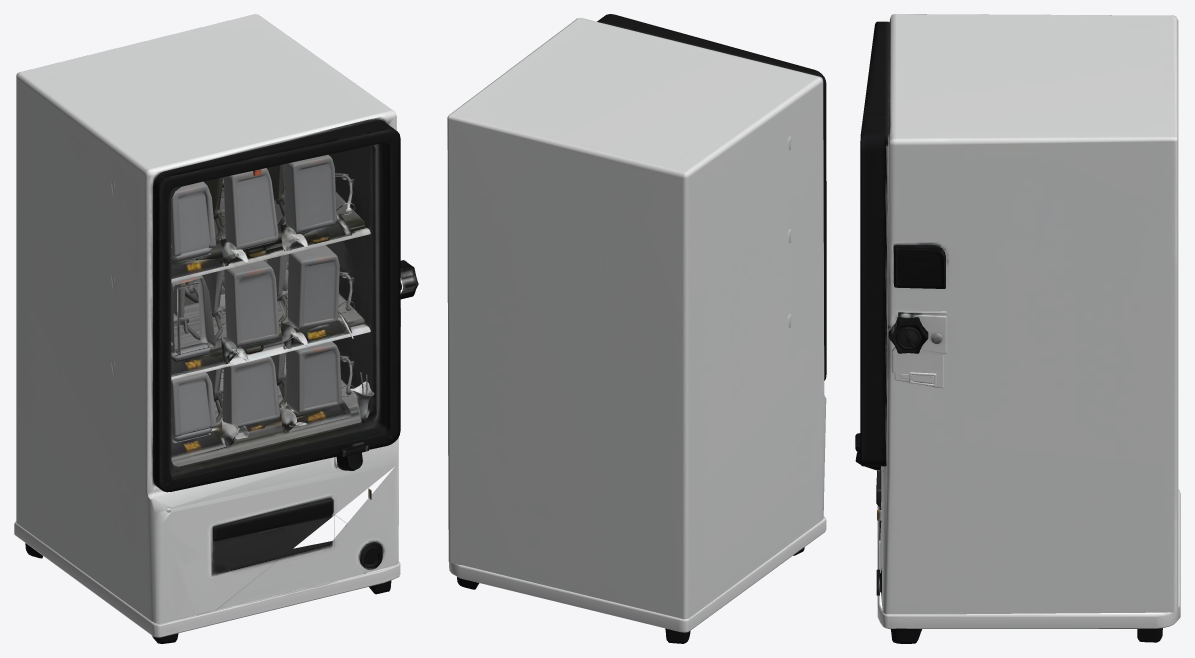
The model's file is toonstudio_vending_machine.glb.
3 renders of one model, left to right at view 1: azimuth 30°, elevation 25°; view 2: azimuth 150°, elevation 25°; view 3: azimuth 270°, elevation 25°, orthographic. The views are drawn at different scales.
Parts seen in each view (by area): view 1: tripo_6d372aa5_f5ca_4eaa_8345_1cd161721f91; view 2: tripo_6d372aa5_f5ca_4eaa_8345_1cd161721f91; view 3: tripo_6d372aa5_f5ca_4eaa_8345_1cd161721f91.
Boxes of the visible parts, x1=… form: tripo_6d372aa5_f5ca_4eaa_8345_1cd161721f91: x1=14, y1=14, x2=418, y2=643; tripo_6d372aa5_f5ca_4eaa_8345_1cd161721f91: x1=447, y1=14, x2=826, y2=643; tripo_6d372aa5_f5ca_4eaa_8345_1cd161721f91: x1=855, y1=14, x2=1180, y2=643.
Size of the model in its own units: 1.1 by 1.85 by 1.08.
Materials: 1 (1 with a texture image).
